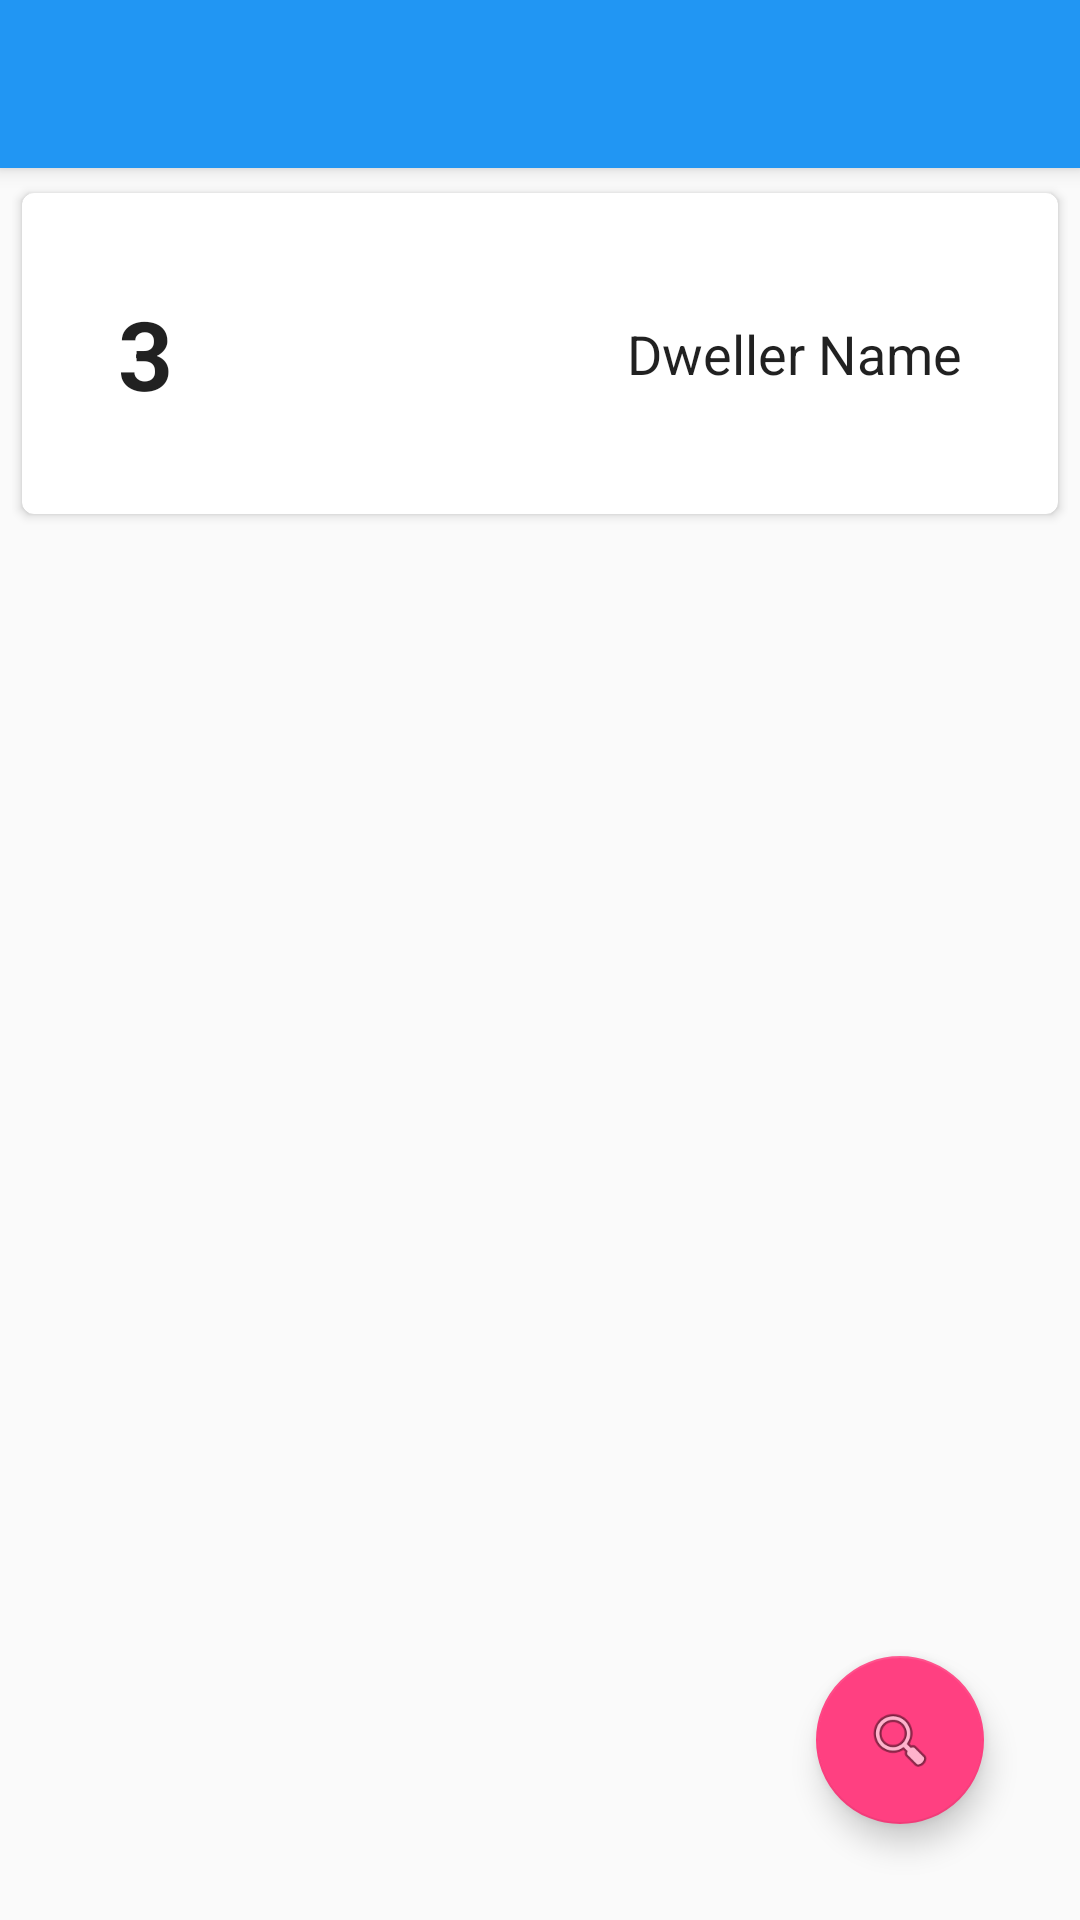

Locate icon controls on the screen. Image size 1080 x 1920, boxes as (left=x1, top=y1, right=x2, bottom=y2).
search: (left=816, top=1656, right=984, bottom=1824)
